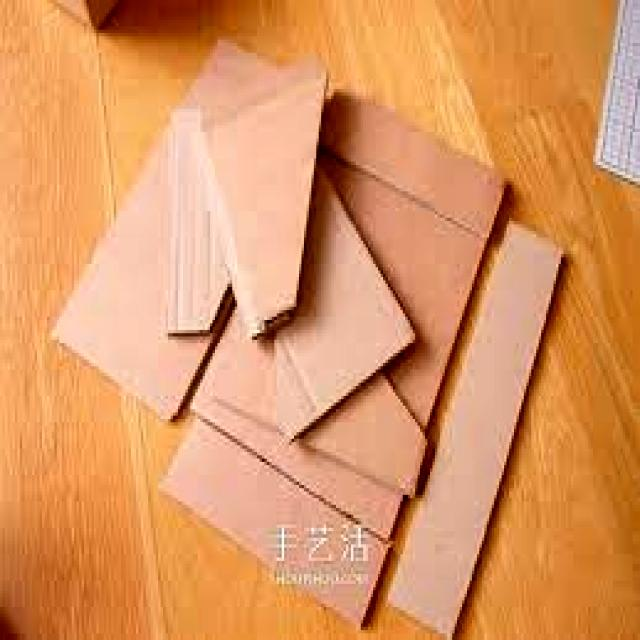Cardboard: (43, 28, 569, 640)
